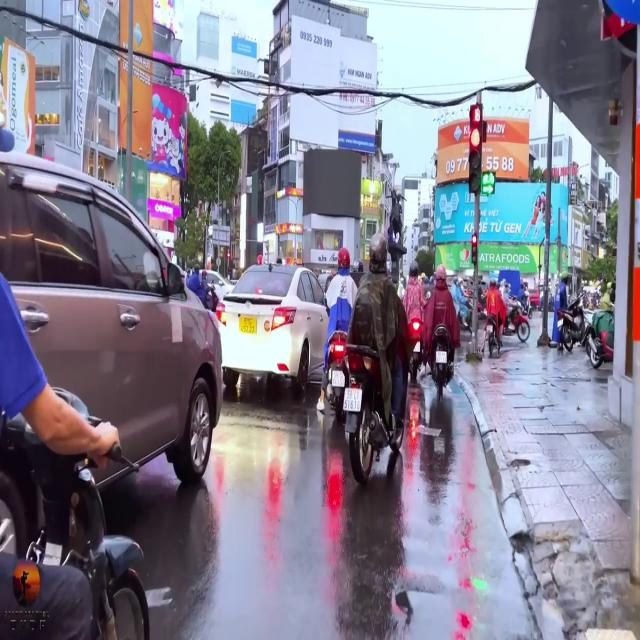bien_trang: (343, 381, 365, 413)
bien_vang: (239, 315, 258, 336)
